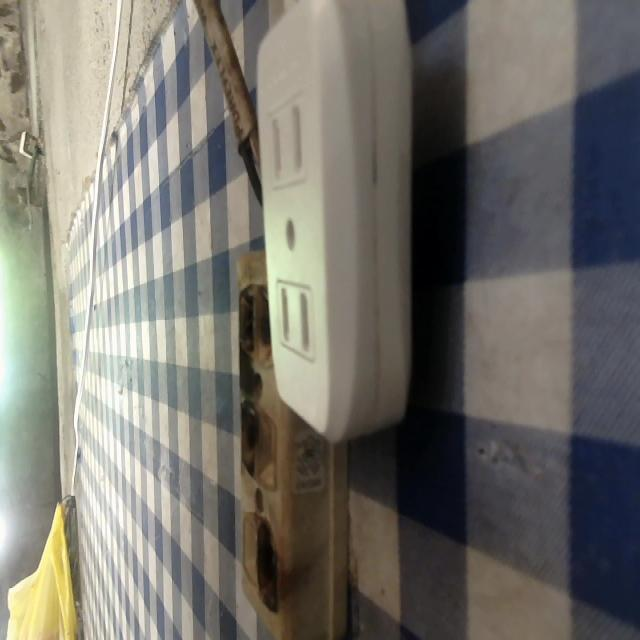-: (235, 277, 280, 372), (247, 517, 290, 608), (233, 400, 262, 480)
